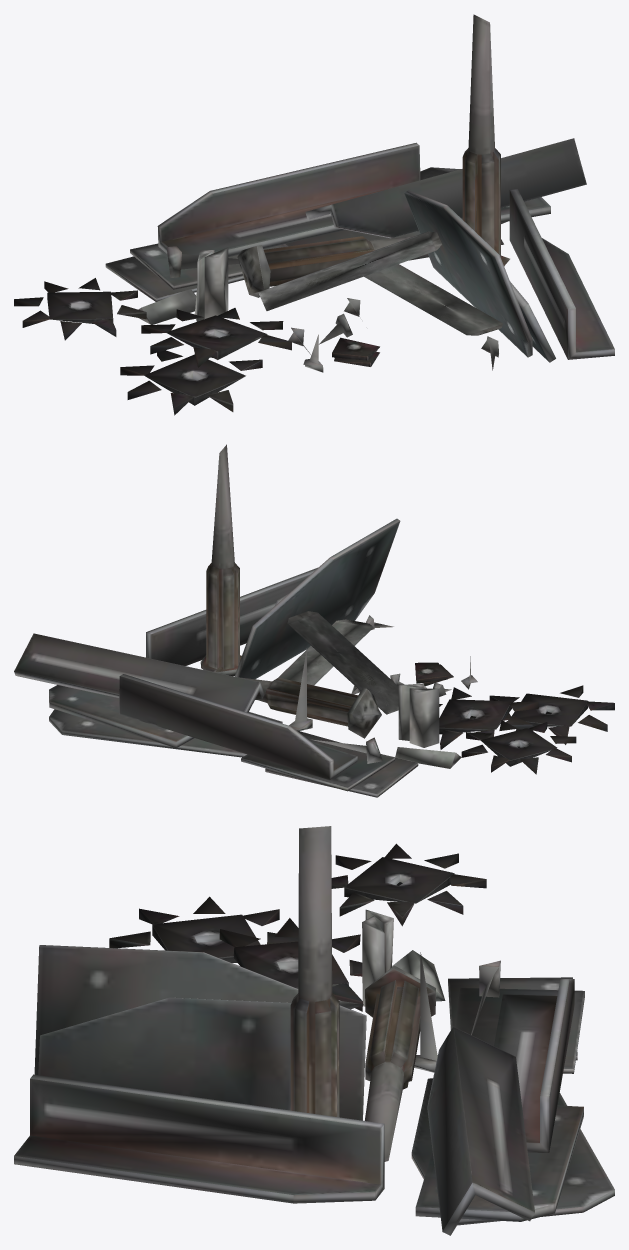
The model's file is scrap-pile.lod0.glb.
3 renders of one model, top to bottom at view 1: azimuth 30°, elevation 25°; view 2: azimuth 150°, elevation 25°; view 3: azimuth 270°, elevation 25°, orthographic. The views are drawn at different scales.
Visible parts, largest first — view 1: defaultMaterial; view 2: defaultMaterial; view 3: defaultMaterial.
Boxes of the visible parts, x1,y1,x2,y2 form: defaultMaterial: (14,14,614,415); defaultMaterial: (14,444,614,797); defaultMaterial: (14,826,614,1235).
Size of the model in its own units: 2.77 by 1.16 by 1.93.
1 material, 1 textured.
